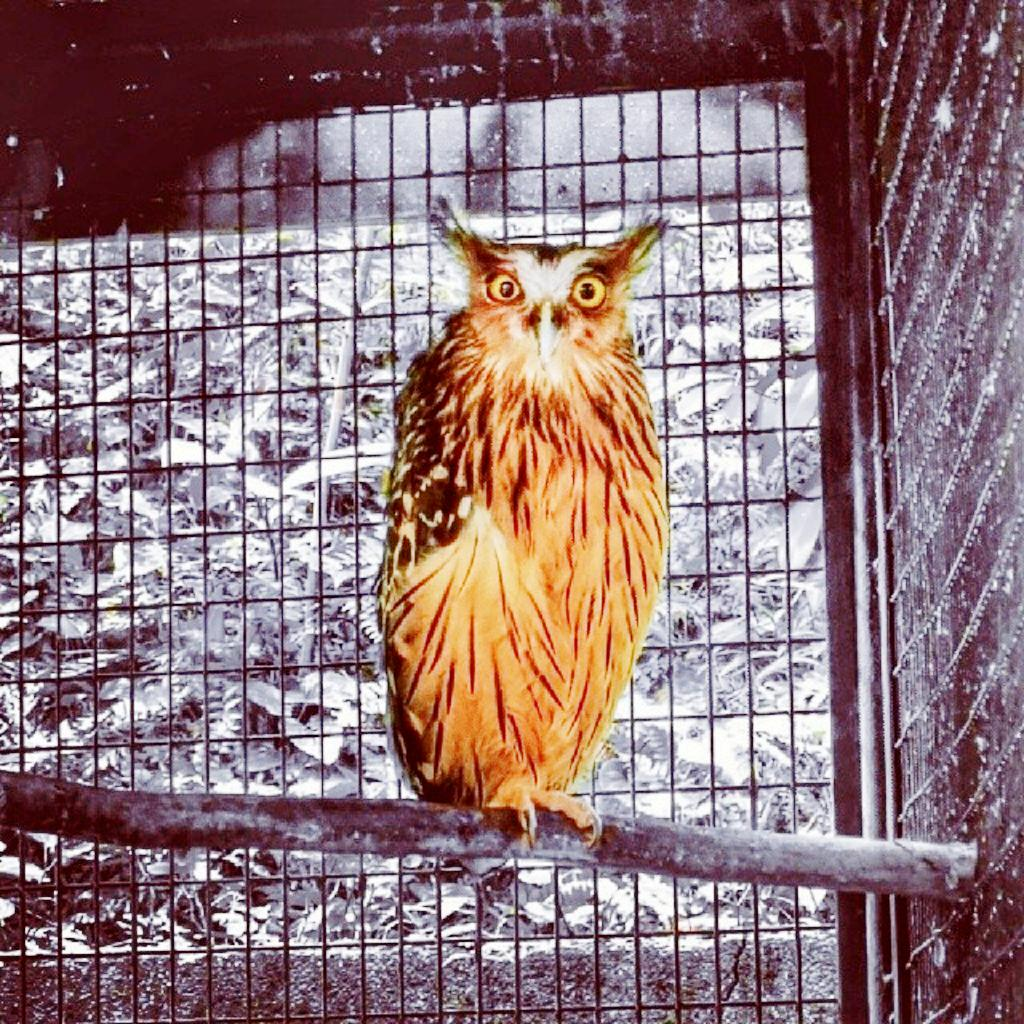Owl: (378, 168, 684, 840)
